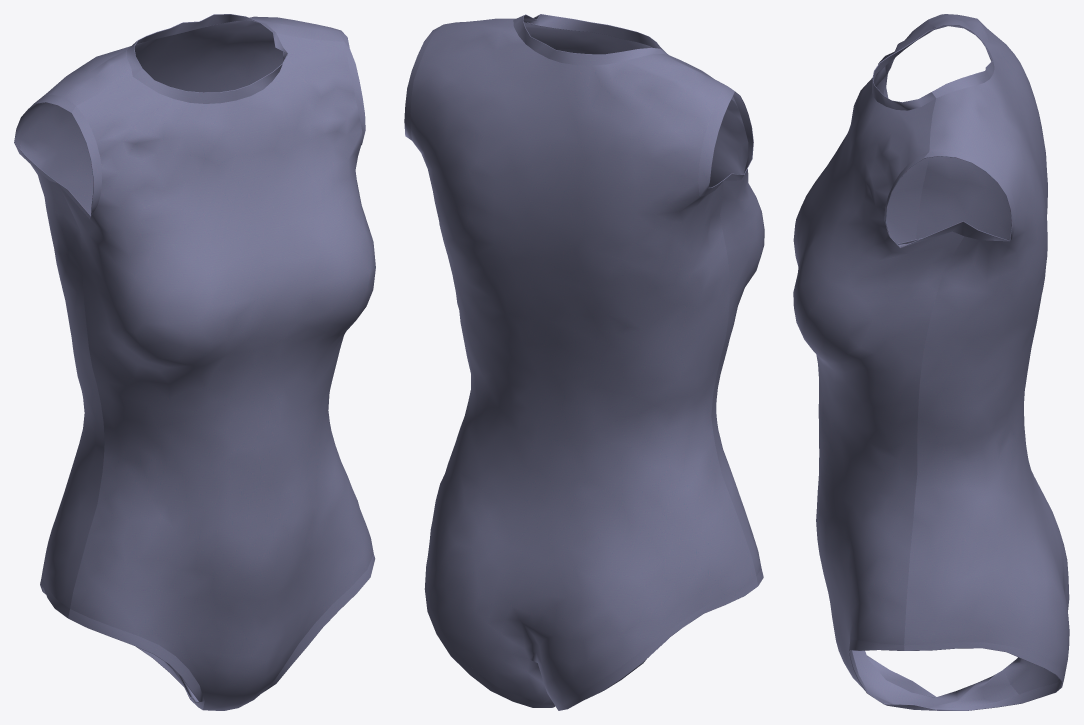
3 renders of one model, left to right at view 1: azimuth 30°, elevation 25°; view 2: azimuth 150°, elevation 25°; view 3: azimuth 270°, elevation 25°, orthographic.
Parts seen in each view (by area): view 1: Pattern2D_3238331, Pattern2D_3236131, Pattern2D_12635, Pattern2D_3238332, Pattern2D_10739, Pattern2D_3238333, Pattern2D_10728, Pattern2D_11019; view 2: Pattern2D_3236131, Pattern2D_3238331, Pattern2D_12635, Pattern2D_3238332, Pattern2D_10728, Pattern2D_10739, Pattern2D_3238333, Pattern2D_11019; view 3: Pattern2D_3236131, Pattern2D_3238331, Pattern2D_3238333, Pattern2D_11019, Pattern2D_10739, Pattern2D_10728, Pattern2D_12635.
Boxes of the visible parts, x1,y1,x2,y2 form: Pattern2D_3238331: (58, 33, 375, 710); Pattern2D_3236131: (20, 16, 344, 608); Pattern2D_12635: (40, 578, 204, 709); Pattern2D_3238332: (14, 94, 101, 218); Pattern2D_10739: (133, 32, 287, 103); Pattern2D_3238333: (262, 554, 375, 692); Pattern2D_10728: (127, 14, 275, 76); Pattern2D_11019: (333, 28, 365, 144); Pattern2D_3236131: (410, 18, 756, 705); Pattern2D_3238331: (524, 22, 764, 704); Pattern2D_12635: (555, 568, 763, 710); Pattern2D_3238332: (698, 86, 753, 196); Pattern2D_10728: (513, 14, 667, 65); Pattern2D_10739: (523, 14, 669, 56); Pattern2D_3238333: (424, 558, 555, 707); Pattern2D_11019: (404, 23, 447, 140); Pattern2D_3236131: (904, 14, 1069, 694); Pattern2D_3238331: (793, 19, 1018, 708); Pattern2D_3238333: (848, 639, 1064, 710); Pattern2D_11019: (884, 150, 1015, 248); Pattern2D_10739: (872, 31, 935, 110); Pattern2D_10728: (929, 24, 994, 98); Pattern2D_12635: (867, 655, 936, 697).
Size of the model in its own units: 32.25 by 66.8 by 25.53.
